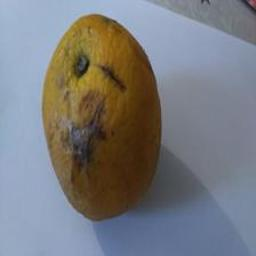Orange Semifresh: (29, 16, 179, 226)
